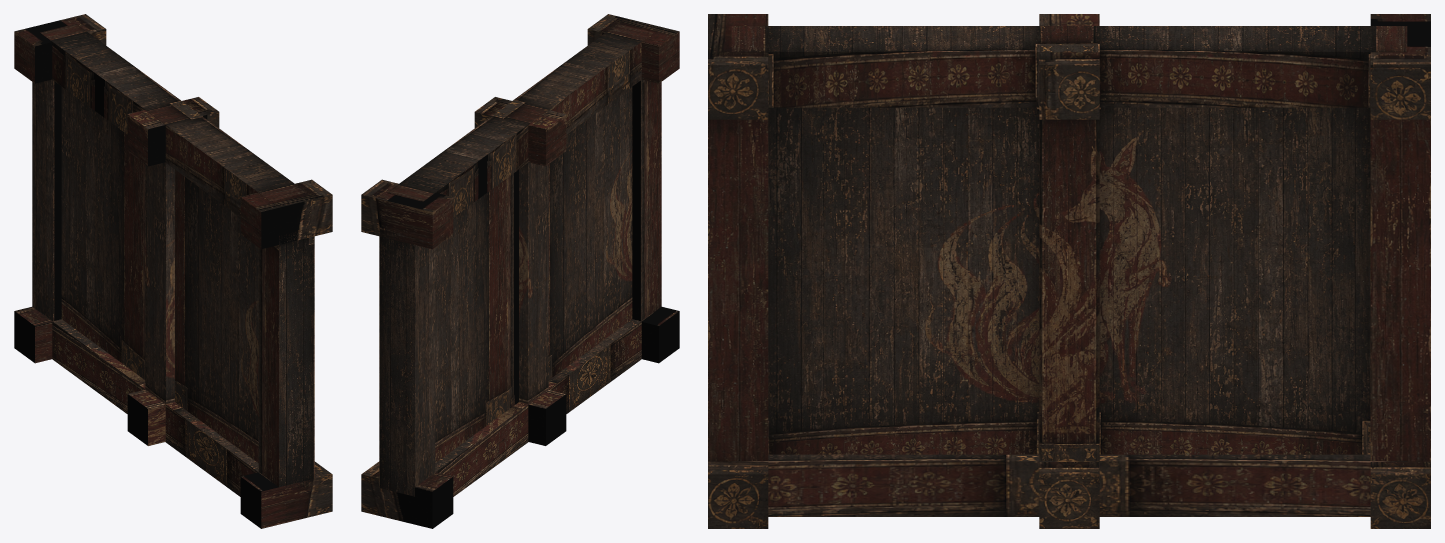
File: 最後の間壁Ablend.fbx
3 renders of one model, left to right at view 1: azimuth 30°, elevation 25°; view 2: azimuth 150°, elevation 25°; view 3: azimuth 270°, elevation 25°, orthographic. The views are drawn at different scales.
Parts seen in each view (by area): view 1: Cube.001; view 2: Cube.001; view 3: Cube.001.
Part boxes in pixels (bbox=[...]): Cube.001: bbox=[14, 14, 332, 528]; Cube.001: bbox=[361, 14, 679, 528]; Cube.001: bbox=[708, 14, 1430, 528].
Bounding box in the file's own units: 800 × 3408 × 4800.
Materials: 1 (1 with a texture image).
